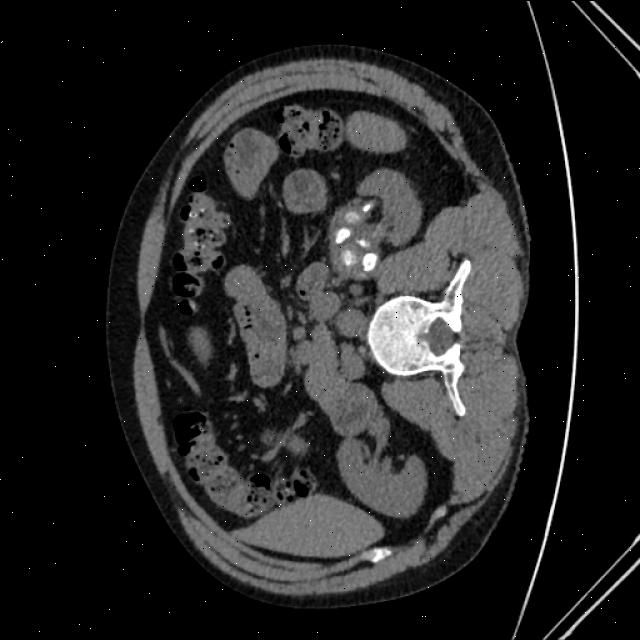kidneystone: (336, 226, 351, 242), (364, 254, 377, 270), (362, 202, 373, 211), (358, 238, 369, 246)
